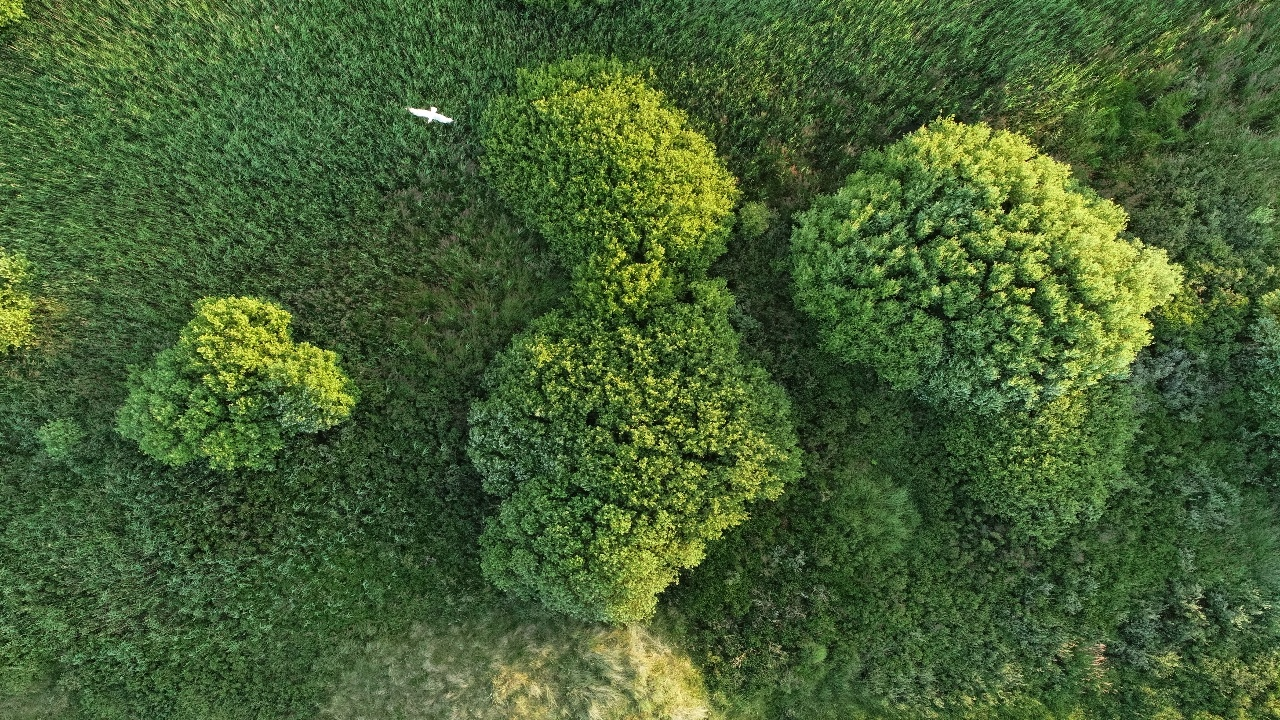Bird: (399, 91, 461, 137)
